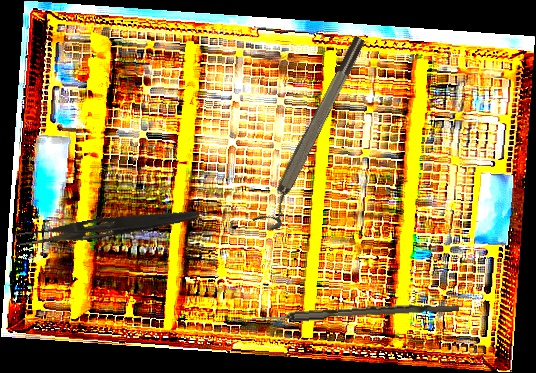Dressing Forceps: (15, 201, 201, 253)
Fixation Ring: (252, 33, 377, 234)
Surgical Spoon: (230, 300, 460, 327)
